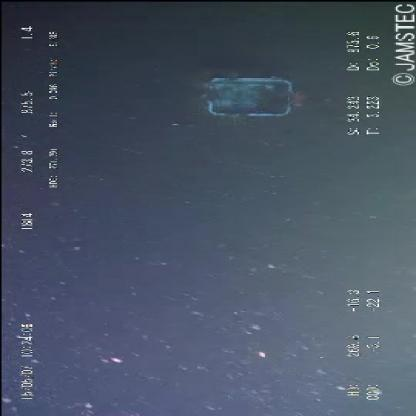Rác: (194, 71, 311, 124)
